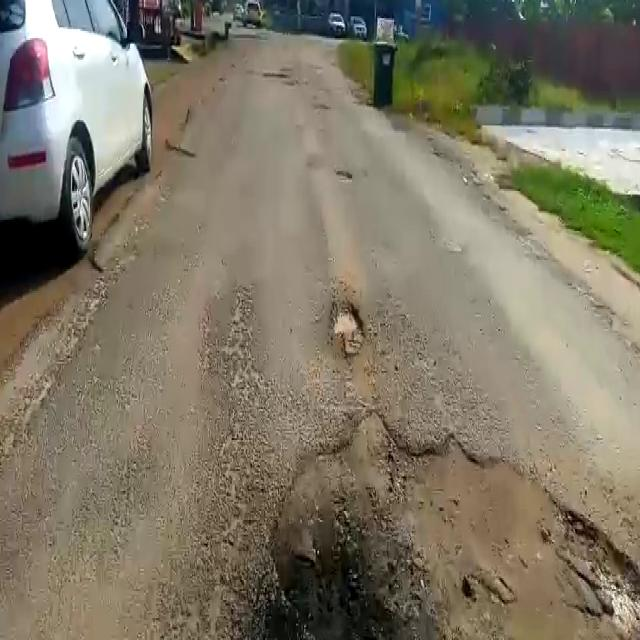Pothole: (268, 422, 640, 640), (330, 298, 368, 358)
